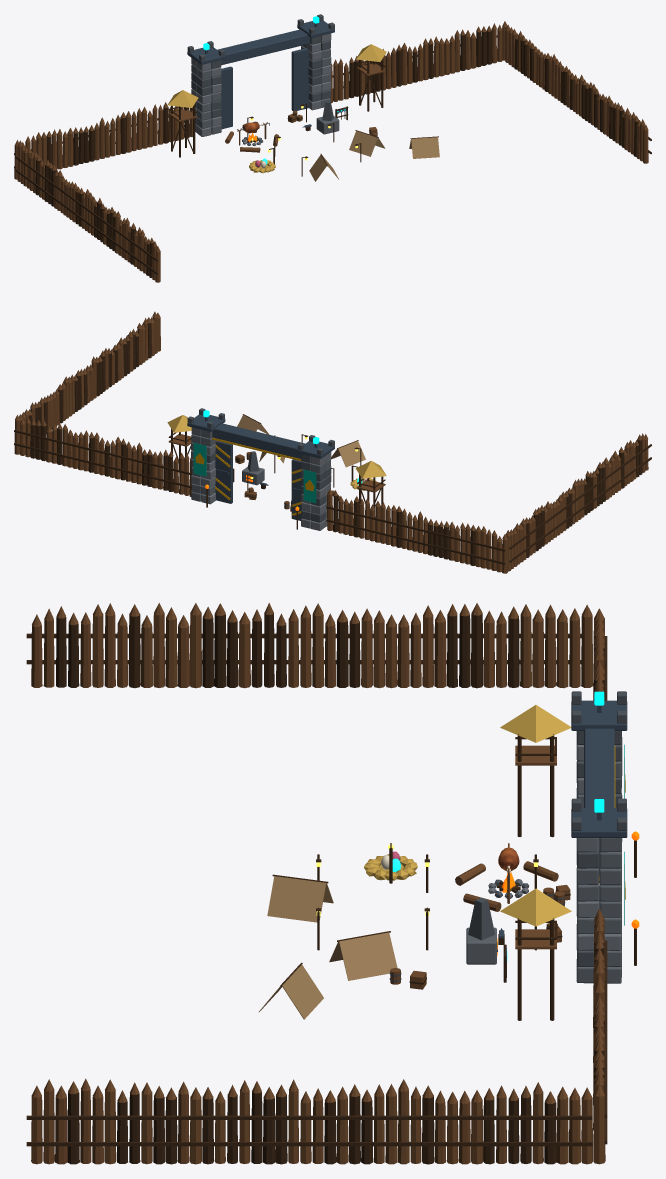
Rendered from sanctuary.glb.
3 renders of one model, top to bottom at view 1: azimuth 30°, elevation 25°; view 2: azimuth 150°, elevation 25°; view 3: azimuth 270°, elevation 25°, orthographic. The views are drawn at different scales.
Visible parts, largest first — view 1: Sanctuary; view 2: Sanctuary; view 3: Sanctuary.
Part boxes in pixels (box(x1,y1,x2,y2)): Sanctuary: box(14, 14, 651, 282); Sanctuary: box(14, 311, 651, 573); Sanctuary: box(26, 603, 639, 1164).
Size of the model in its own units: 126 by 21.56 by 67.68.
Materials: 19 (1 with a texture image).
